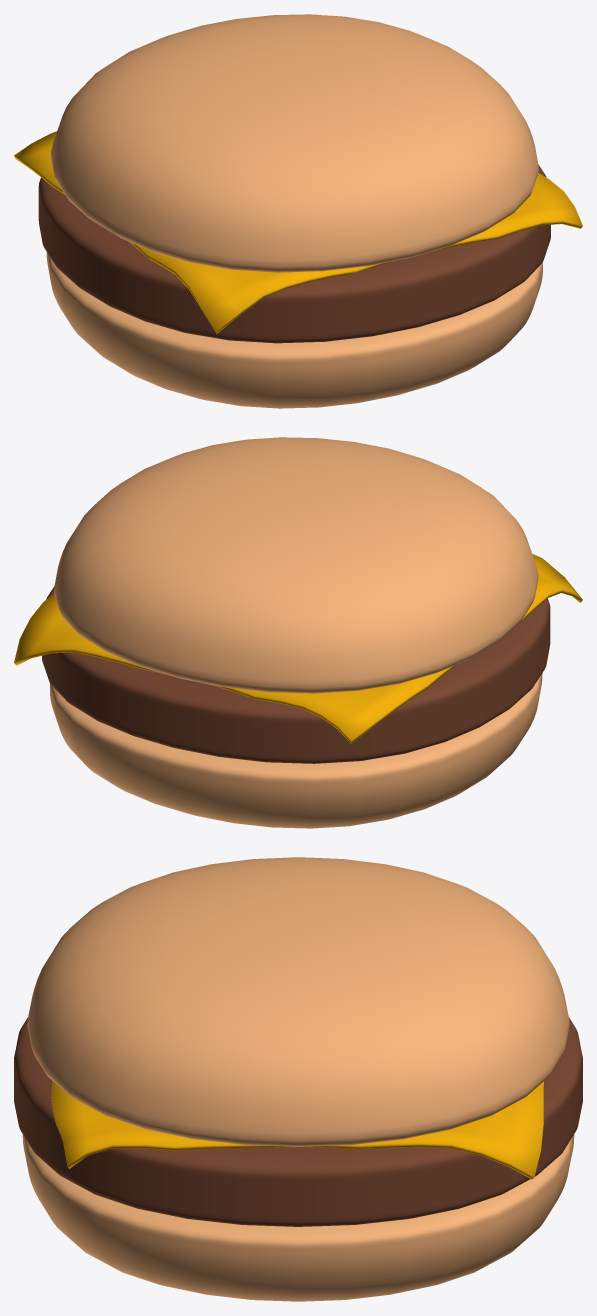
File: burger.glb
The picture shows the model from 3 angles, top to bottom: view 1: azimuth 30°, elevation 25°; view 2: azimuth 150°, elevation 25°; view 3: azimuth 270°, elevation 25°; orthographic projection. The views are drawn at different scales.
Parts seen in each view (by area): view 1: Cube.001, Cube.002, Cube, Plane; view 2: Cube.001, Cube.002, Cube, Plane; view 3: Cube.001, Cube.002, Cube, Plane.
Part boxes in pixels (<box>): Cube.001: <box>50,14,538,272</box>; Cube.002: <box>38,164,550,343</box>; Cube: <box>46,252,542,408</box>; Plane: <box>14,131,582,333</box>; Cube.001: <box>54,437,538,693</box>; Cube.002: <box>42,586,550,763</box>; Cube: <box>50,673,542,828</box>; Plane: <box>14,554,582,743</box>; Cube.001: <box>27,857,569,1146</box>; Cube.002: <box>14,1017,582,1226</box>; Cube: <box>22,1134,574,1301</box>; Plane: <box>51,1081,543,1179</box>.
Bounding box in the file's own units: 1.89 × 1.15 × 1.89.
